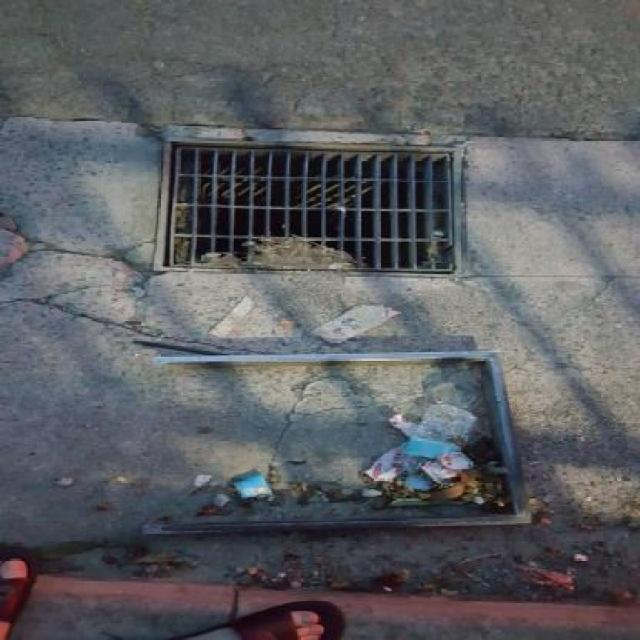Drain Hole: (149, 145, 478, 277)
